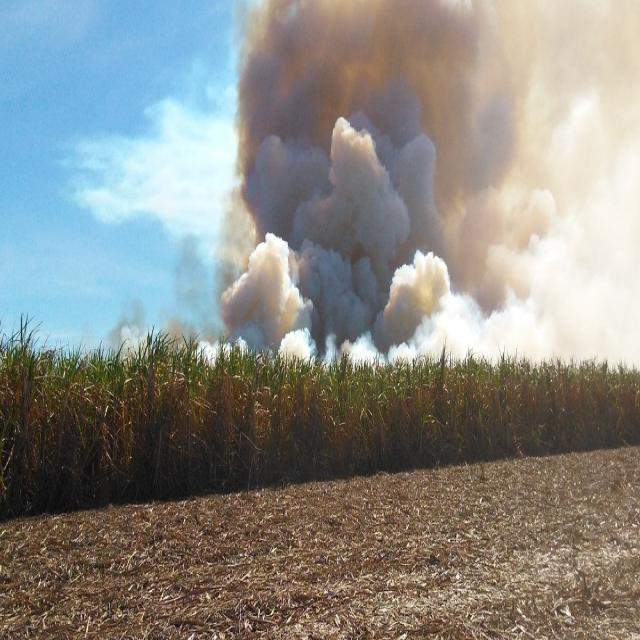Smoke: (218, 11, 572, 360)
